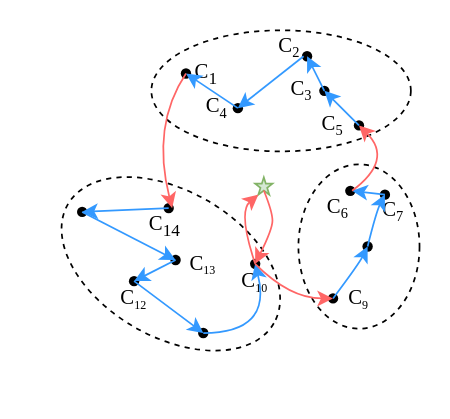
The diagram is 450 pixels wide and 419 high, and some of its shapes have lost their labels. The centre of each missing label's shape, as x and y in pixels:
"C 11" goes at (x=202, y=332).
"C 15" goes at (x=81, y=211).
"C 8" goes at (x=367, y=245).
